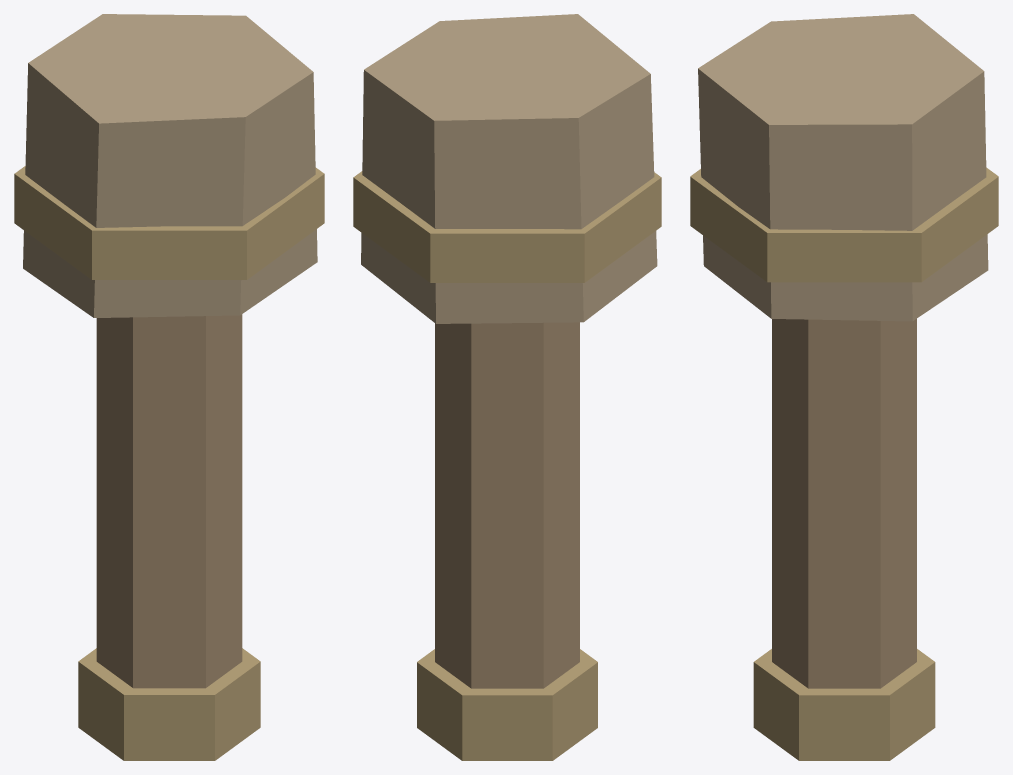
Rendered from cudgel.glb.
The picture shows the model from 3 angles, left to right: view 1: azimuth 30°, elevation 25°; view 2: azimuth 150°, elevation 25°; view 3: azimuth 270°, elevation 25°; orthographic projection.
Visible parts, largest first — view 1: cudgel; view 2: cudgel; view 3: cudgel.
Part boxes in pixels (x1,y1,x2,y2): cudgel: (14, 14, 324, 760); cudgel: (353, 14, 661, 760); cudgel: (690, 14, 998, 760).
Bounding box in the file's own units: 0.1472 × 0.4023 × 0.17.
